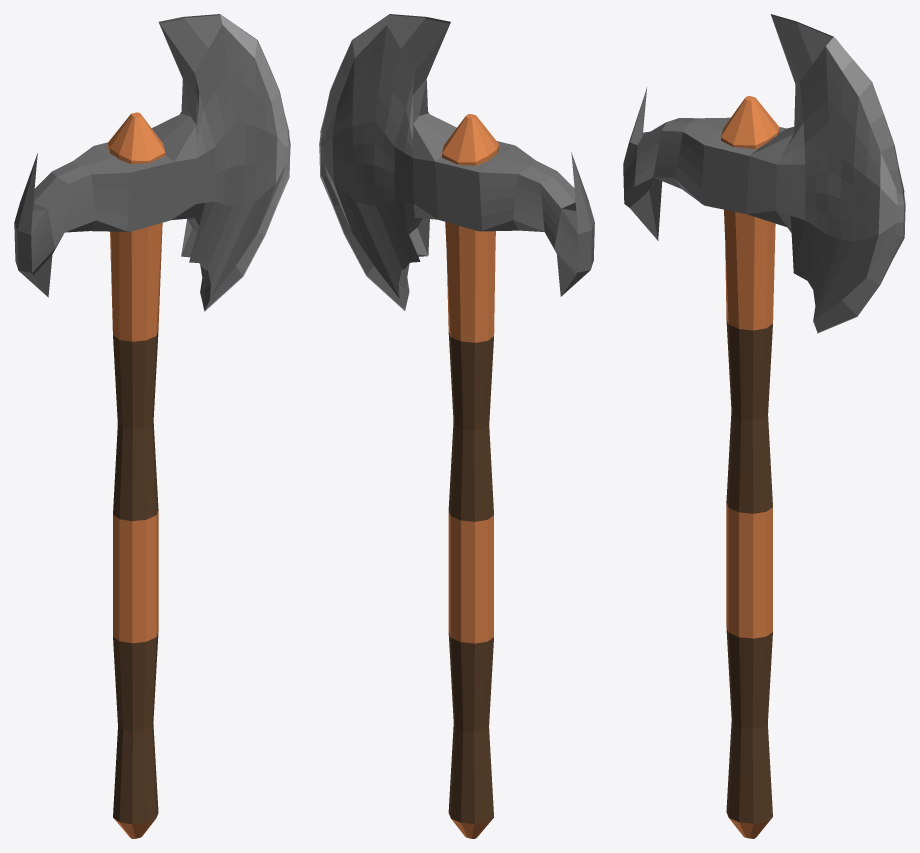
File: LowPoly Battle Axe.fbx
The picture shows the model from 3 angles, left to right: view 1: azimuth 30°, elevation 25°; view 2: azimuth 150°, elevation 25°; view 3: azimuth 330°, elevation 25°; orthographic projection. The views are drawn at different scales.
Parts seen in each view (by area): view 1: Blade, Grip; view 2: Blade, Grip; view 3: Blade, Grip.
Part boxes in pixels (left/top/right/bottom): Blade: left=14, top=14, right=290, bottom=311; Grip: left=107, top=112, right=165, bottom=838; Blade: left=319, top=14, right=594, bottom=310; Grip: left=442, top=114, right=499, bottom=838; Blade: left=623, top=14, right=905, bottom=333; Grip: left=721, top=96, right=779, bottom=838.
Bounding box in the file's own units: 123 × 349 × 28.67.
